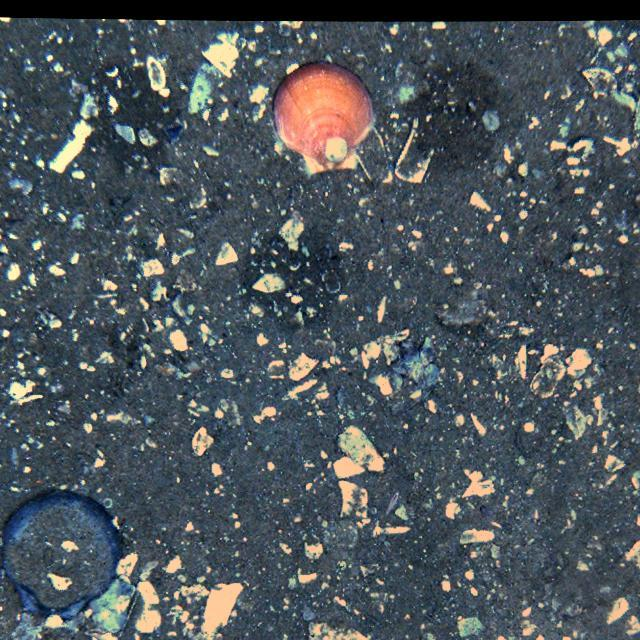scallop: (272, 57, 374, 177)
